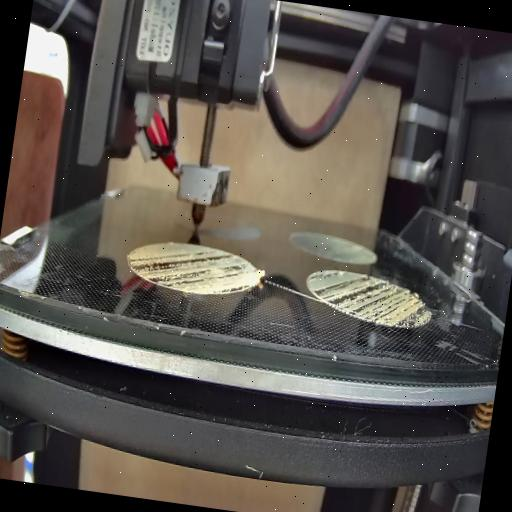under_extrusion: (125, 238, 256, 296), (312, 268, 432, 328)
